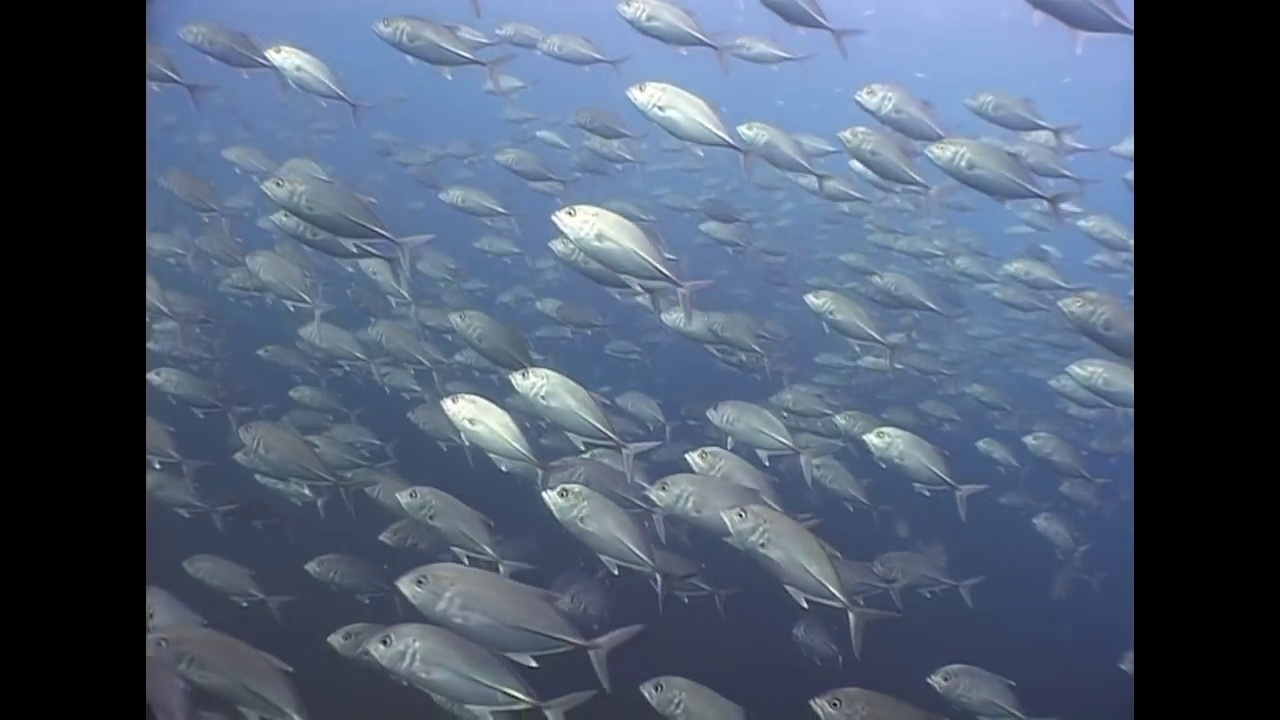bigeye trevally: (386, 551, 634, 690), (722, 492, 894, 656), (360, 612, 587, 718), (545, 190, 702, 321), (534, 473, 683, 601), (507, 357, 656, 482), (256, 162, 424, 271), (149, 616, 310, 718), (929, 122, 1070, 228), (394, 473, 522, 573), (231, 419, 364, 510), (862, 416, 980, 517), (622, 78, 753, 168), (701, 393, 829, 482), (435, 382, 555, 475), (540, 233, 673, 311), (369, 13, 500, 88), (267, 26, 365, 122), (642, 466, 772, 537), (798, 282, 900, 370), (174, 540, 288, 617), (965, 82, 1076, 151), (368, 302, 457, 388), (661, 300, 769, 370), (613, 0, 727, 66), (734, 117, 826, 195), (869, 541, 977, 606), (835, 124, 931, 197), (243, 243, 328, 324), (172, 15, 283, 77), (293, 317, 389, 388), (627, 666, 755, 717), (448, 309, 546, 375), (922, 655, 1022, 718), (1018, 413, 1102, 488), (848, 257, 946, 321), (847, 81, 947, 141), (298, 541, 399, 598), (1057, 279, 1129, 358), (147, 464, 229, 532), (147, 363, 235, 419), (684, 443, 772, 496), (807, 682, 936, 718), (147, 42, 208, 118), (492, 137, 573, 194), (536, 24, 624, 74), (565, 95, 642, 148), (149, 271, 203, 346), (160, 167, 233, 222), (1002, 252, 1085, 300), (720, 29, 807, 74), (1069, 350, 1132, 412), (808, 450, 869, 508), (613, 384, 676, 439), (436, 177, 515, 219), (786, 616, 843, 670), (762, 379, 833, 419), (324, 611, 390, 653), (1042, 370, 1109, 411), (1034, 505, 1089, 554), (969, 430, 1026, 477), (969, 430, 1025, 477), (465, 228, 529, 260), (485, 19, 545, 52), (993, 481, 1052, 509), (830, 404, 876, 437)
